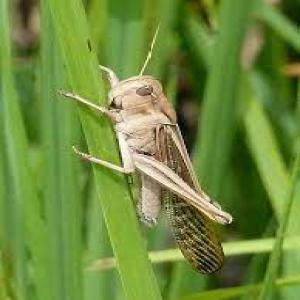locust: (72, 53, 258, 292)
